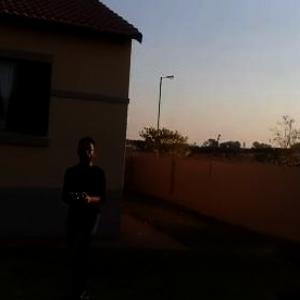follow: (55, 133, 110, 299)
